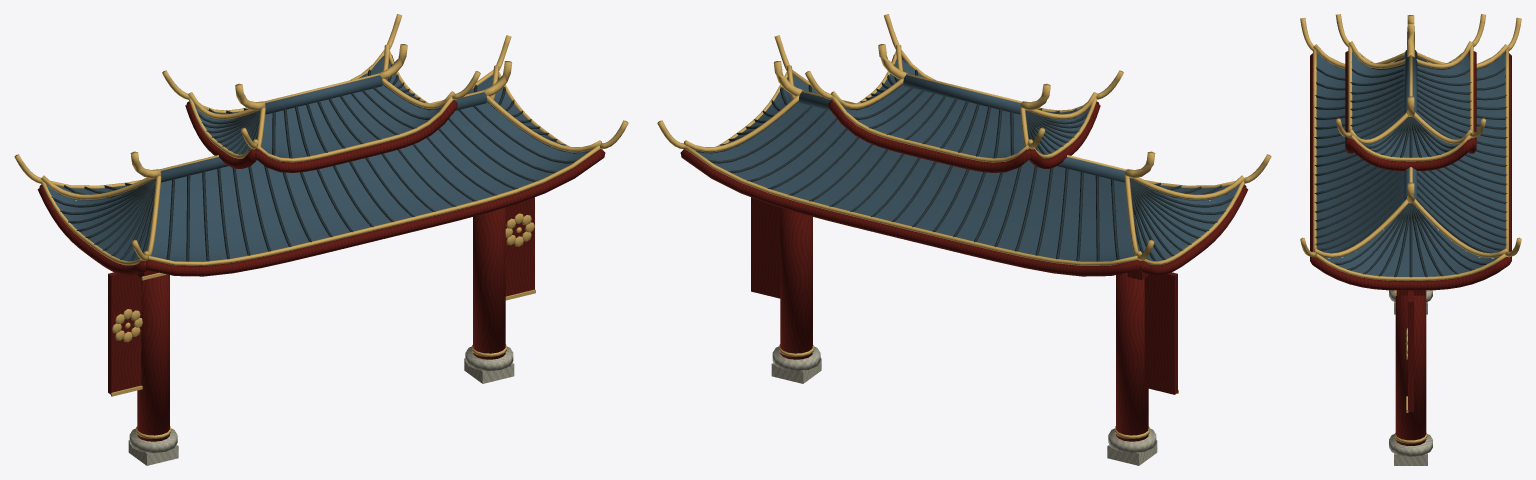
The model's file is gate.glb.
3 views of the same model, side by side, from view 1: azimuth 30°, elevation 25°; view 2: azimuth 150°, elevation 25°; view 3: azimuth 270°, elevation 25° (orthographic). The views are drawn at different scales.
Visible parts, largest first — view 1: gate_Temple_Charcoal_Glazed_Tiles, gate_Temple_Red_Timber, gate_Temple_Antique_Gold, gate_Temple_Dark_Ridge_and_Iron, gate_Temple_Worn_Pale_Stone; view 2: gate_Temple_Charcoal_Glazed_Tiles, gate_Temple_Red_Timber, gate_Temple_Antique_Gold, gate_Temple_Dark_Ridge_and_Iron, gate_Temple_Worn_Pale_Stone; view 3: gate_Temple_Charcoal_Glazed_Tiles, gate_Temple_Dark_Ridge_and_Iron, gate_Temple_Red_Timber, gate_Temple_Antique_Gold, gate_Temple_Worn_Pale_Stone.
Part boxes in pixels (<box>): gate_Temple_Charcoal_Glazed_Tiles: <box>46,56,591,261</box>; gate_Temple_Red_Timber: <box>37,54,605,441</box>; gate_Temple_Antique_Gold: <box>14,14,628,438</box>; gate_Temple_Dark_Ridge_and_Iron: <box>51,64,589,261</box>; gate_Temple_Worn_Pale_Stone: <box>128,346,514,465</box>; gate_Temple_Charcoal_Glazed_Tiles: <box>695,57,1239,261</box>; gate_Temple_Red_Timber: <box>680,54,1248,441</box>; gate_Temple_Antique_Gold: <box>657,14,1271,438</box>; gate_Temple_Dark_Ridge_and_Iron: <box>696,64,1234,261</box>; gate_Temple_Worn_Pale_Stone: <box>771,346,1157,465</box>; gate_Temple_Charcoal_Glazed_Tiles: <box>1316,50,1505,276</box>; gate_Temple_Dark_Ridge_and_Iron: <box>1314,55,1507,277</box>; gate_Temple_Red_Timber: <box>1310,51,1511,445</box>; gate_Temple_Antique_Gold: <box>1300,14,1521,443</box>; gate_Temple_Worn_Pale_Stone: <box>1389,290,1432,465</box>.
Size of the model in its own units: 10.05 by 6.76 by 4.21.
Materials: 5 (2 with a texture image).
